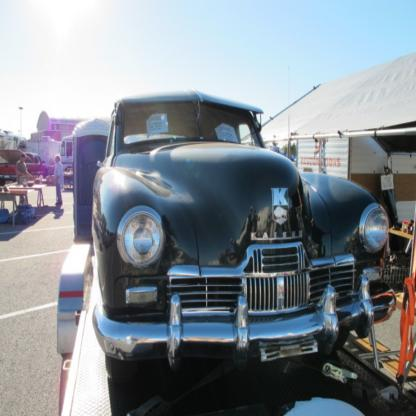Car: (71, 98, 409, 401), (1, 148, 55, 184)
